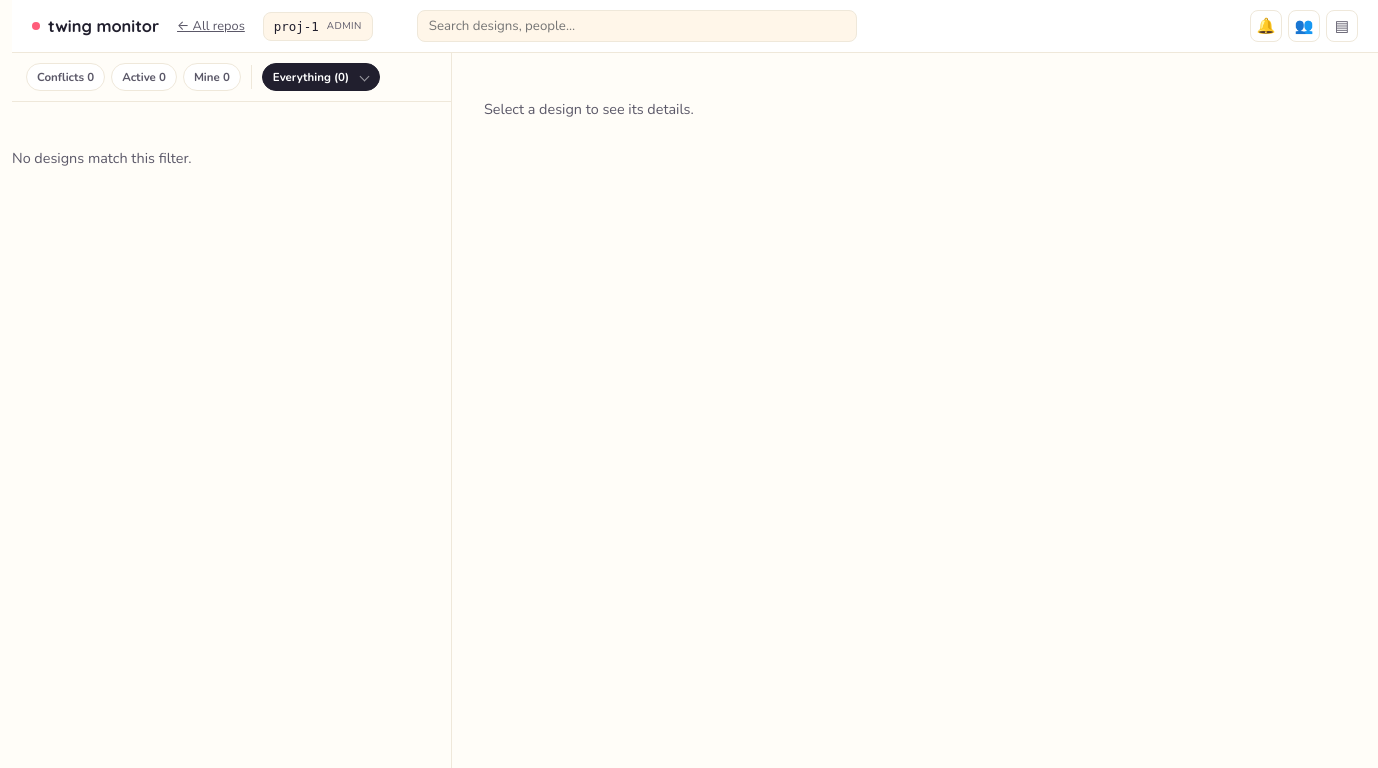
Test: RepoDetailLayout › readOnly › wears the bounded-shell modifier on the home tab only
Expected: the button with aria-label "twing monitor, go to designs" is shown, 32,16 -> 159,36
Click the button named "Team" at (1304, 26), box 1288,10 -> 1320,42
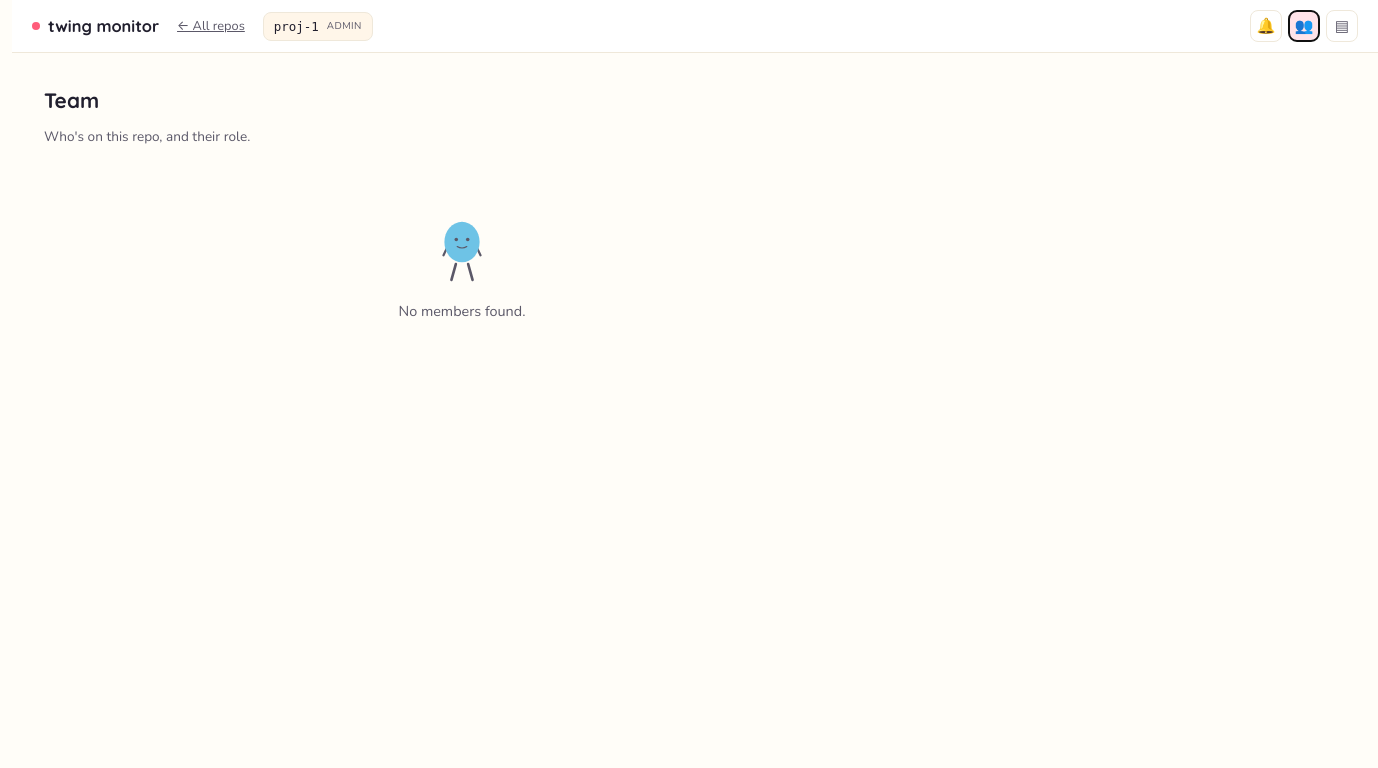
Now the heading "Team" is shown, box 44,87 -> 99,113
